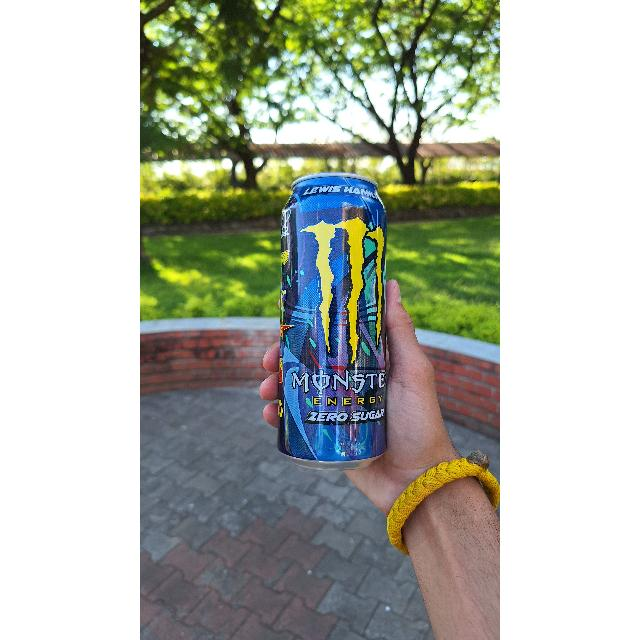Monster LH44: (272, 175, 398, 477)
